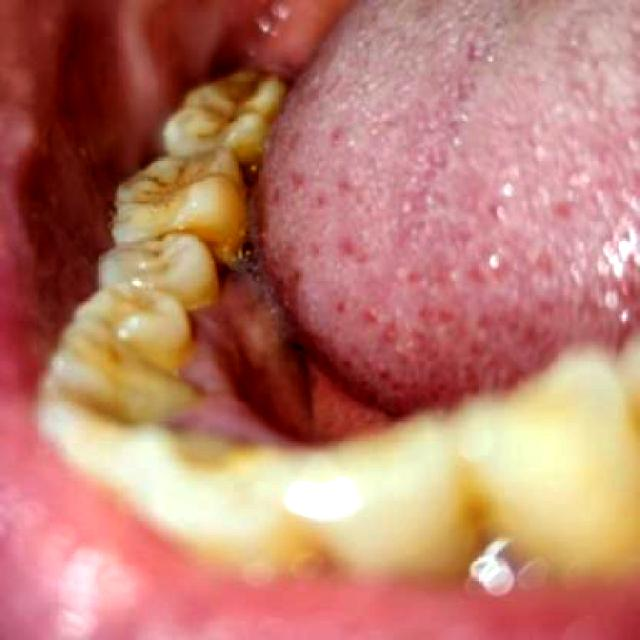Plaque: (142, 166, 229, 215), (190, 100, 255, 143), (121, 245, 188, 272)
